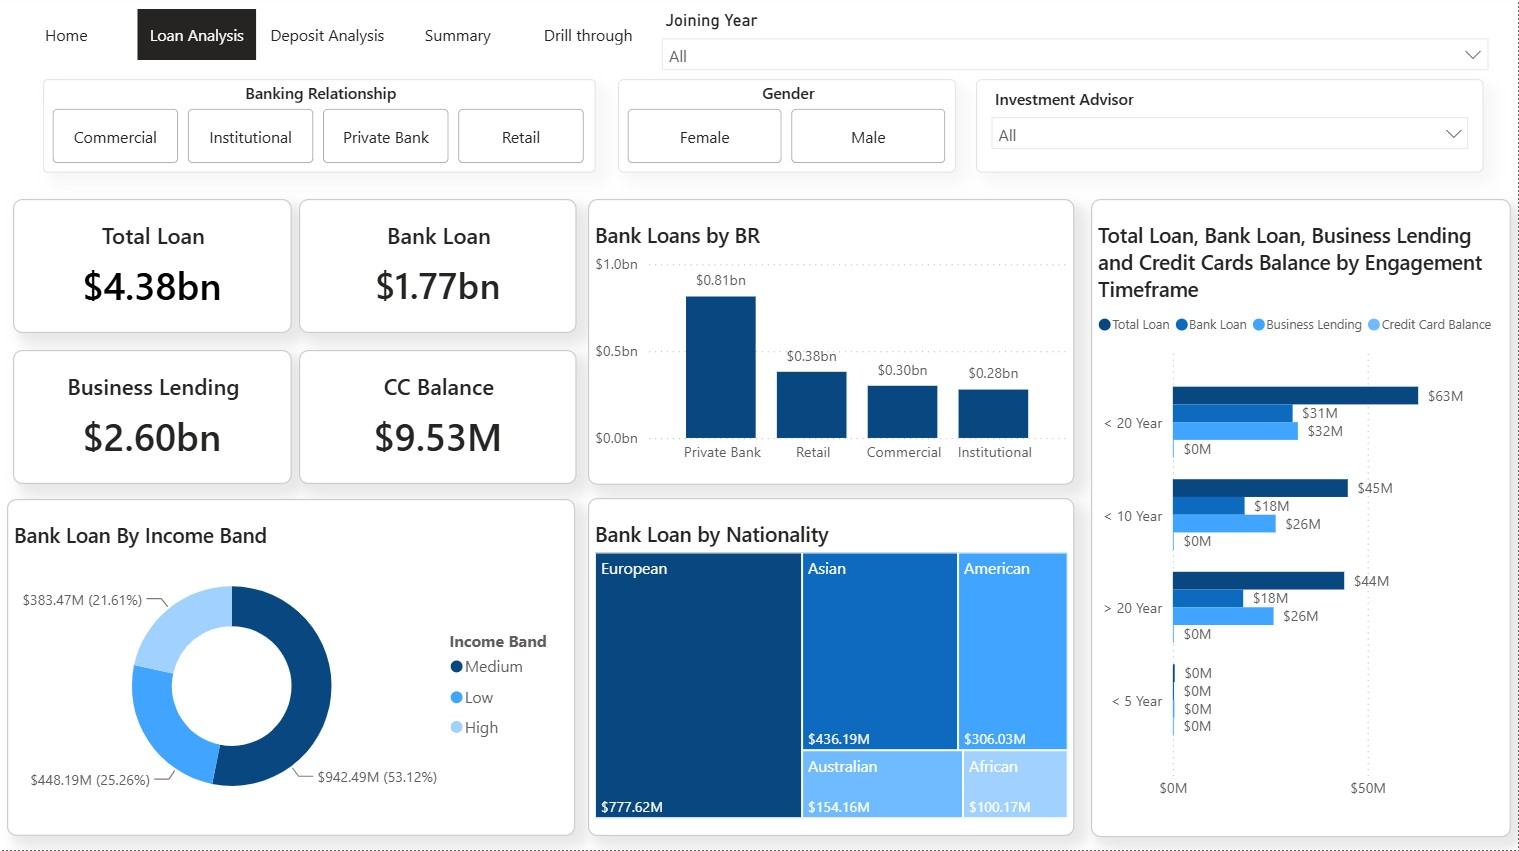

The page's visual inventory and layout, read from the dashboard file:
{"tool":"powerbi","page":{"name":"Loan Analysis","canvas":[1280,720],"ordinal":1},"visuals":[{"type":"pageNavigator","box":[6.3,10.8,541.9,43.2],"z":0},{"type":"cardVisual","title":"Total Loan","fields":{"Data":["banking.Total Loan"]},"box":[10.8,171,234.9,113.4],"z":1000},{"type":"cardVisual","title":"Bank Loan","fields":{"Data":["Sum(banking.Bank Loans)"]},"box":[252,171,234,113.4],"z":2000},{"type":"cardVisual","title":"Business Lending","fields":{"Data":["Sum(banking.Business Lending)"]},"box":[10.8,298.8,234.9,113.4],"z":3000},{"type":"cardVisual","title":"CC Balance","fields":{"Data":["banking.Total Credit Card Balance"]},"box":[252,298.8,234,113.4],"z":4000},{"type":"donutChart","title":"Bank Loan By Income Band","fields":{"Category":["banking.Income Band"],"Series":["banking.Income Band"],"Y":["Sum(banking.Bank Loans)"]},"box":[6.3,424,478.9,284.4],"z":5000},{"type":"clusteredColumnChart","title":"Bank Loans by BR","fields":{"Category":["banking-realtionships.Banking Relationship"],"Y":["Sum(banking.Bank Loans)"]},"box":[496.2,170.7,410.3,241.5],"z":6000},{"type":"treemap","title":"Bank Loan by Nationality","fields":{"Group":["banking.Nationality"],"Values":["Sum(banking.Bank Loans)"]},"box":[496.2,423.5,410.3,284.9],"z":7000},{"type":"clusteredBarChart","title":"Total Loan, Bank Loan, Business Lending and Credit Cards Balance by Engagement Timeframe","fields":{"Y":["banking.Total Loan","banking.Bank Loan","banking.Total Business Lending","banking.Total Credit Card Balance"],"Category":["banking.Engagement Timeframe"]},"box":[919.7,170.7,353.7,537.7],"z":8000},{"type":"advancedSlicerVisual","fields":{"Values":["banking-realtionships.Banking Relationship"]},"box":[36,70.2,466.3,79.2],"z":9000},{"type":"advancedSlicerVisual","fields":{"Values":["gender.Gender"]},"box":[521.2,70.2,285.3,79.2],"z":10000},{"type":"slicer","fields":{"Values":["investment-advisiors.Investment Advisor"]},"box":[822.7,70.2,428.5,79.2],"z":11000},{"type":"slicer","fields":{"Values":["banking.Joining Year"]},"box":[548.2,7.2,716.5,61.2],"z":12000}]}

Visuals, with their boxes on the page's 1280x720 design canvas (x1, y1, x2, y2). These are canvas units, not pixel positions in the 1519x851 screenshot, which may show the page scaled, cropped or inside an application window:
pageNavigator: 6/11/548/54
"Total Loan" cardVisual: 11/171/246/284
"Bank Loan" cardVisual: 252/171/486/284
"Business Lending" cardVisual: 11/299/246/412
"CC Balance" cardVisual: 252/299/486/412
"Bank Loan By Income Band" donutChart: 6/424/485/708
"Bank Loans by BR" clusteredColumnChart: 496/171/906/412
"Bank Loan by Nationality" treemap: 496/424/906/708
"Total Loan, Bank Loan, Business Lending and Credit Cards Balance by Engagement Timeframe" clusteredBarChart: 920/171/1273/708
advancedSlicerVisual - banking-realtionships.Banking Relationship: 36/70/502/149
advancedSlicerVisual - gender.Gender: 521/70/806/149
slicer - investment-advisiors.Investment Advisor: 823/70/1251/149
slicer - banking.Joining Year: 548/7/1265/68
